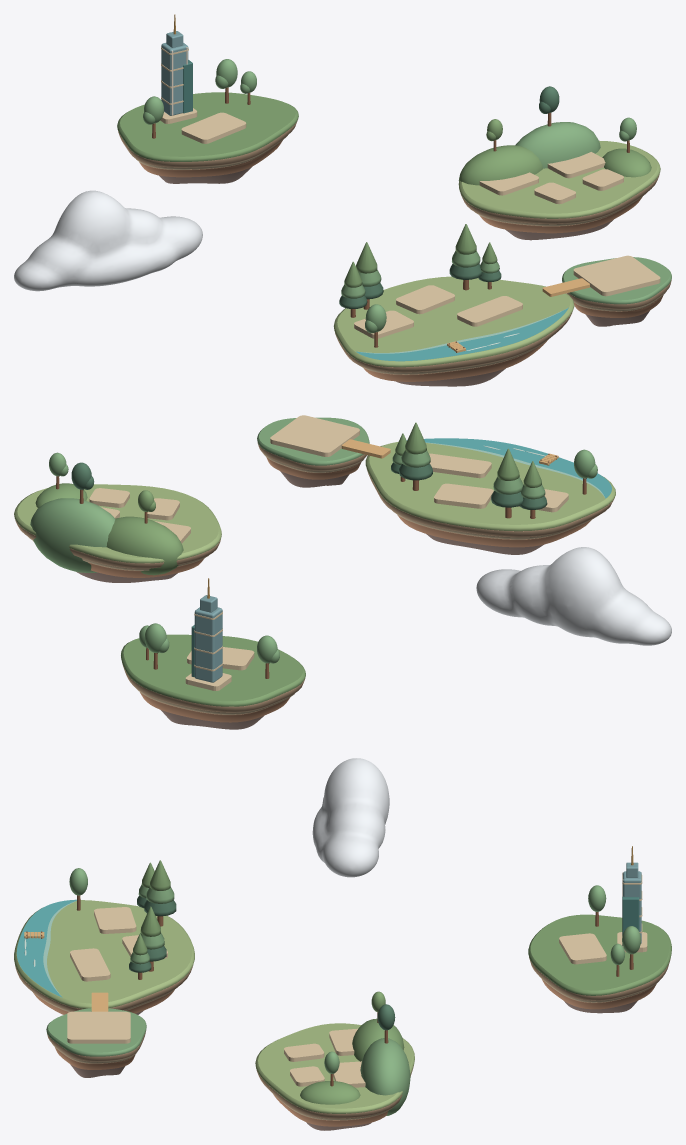
File: env_islands_v1.glb
3 views of the same model, one above another, from view 1: azimuth 30°, elevation 25°; view 2: azimuth 150°, elevation 25°; view 3: azimuth 270°, elevation 25° (orthographic). The views are drawn at different scales.
Parts seen in each view (by area): view 1: landscape_zurich, landscape_dublin, landscape_frankfurt, landscape_eu-mixed; view 2: landscape_zurich, landscape_dublin, landscape_frankfurt, landscape_eu-mixed; view 3: landscape_zurich, landscape_dublin, landscape_frankfurt, landscape_eu-mixed.
Boxes of the visible parts, bbox=[...] form: landscape_zurich: bbox=[333, 224, 671, 386]; landscape_dublin: bbox=[458, 86, 660, 240]; landscape_frankfurt: bbox=[117, 14, 298, 183]; landscape_eu-mixed: bbox=[14, 190, 202, 291]; landscape_zurich: bbox=[257, 415, 615, 554]; landscape_dublin: bbox=[14, 452, 221, 582]; landscape_frankfurt: bbox=[121, 578, 305, 729]; landscape_eu-mixed: bbox=[476, 547, 671, 645]; landscape_zurich: bbox=[14, 860, 194, 1077]; landscape_dublin: bbox=[255, 991, 414, 1130]; landscape_frankfurt: bbox=[528, 846, 671, 1013]; landscape_eu-mixed: bbox=[312, 758, 389, 877].
Bounding box in the file's own units: 28.55 × 6.99 × 26.38.
